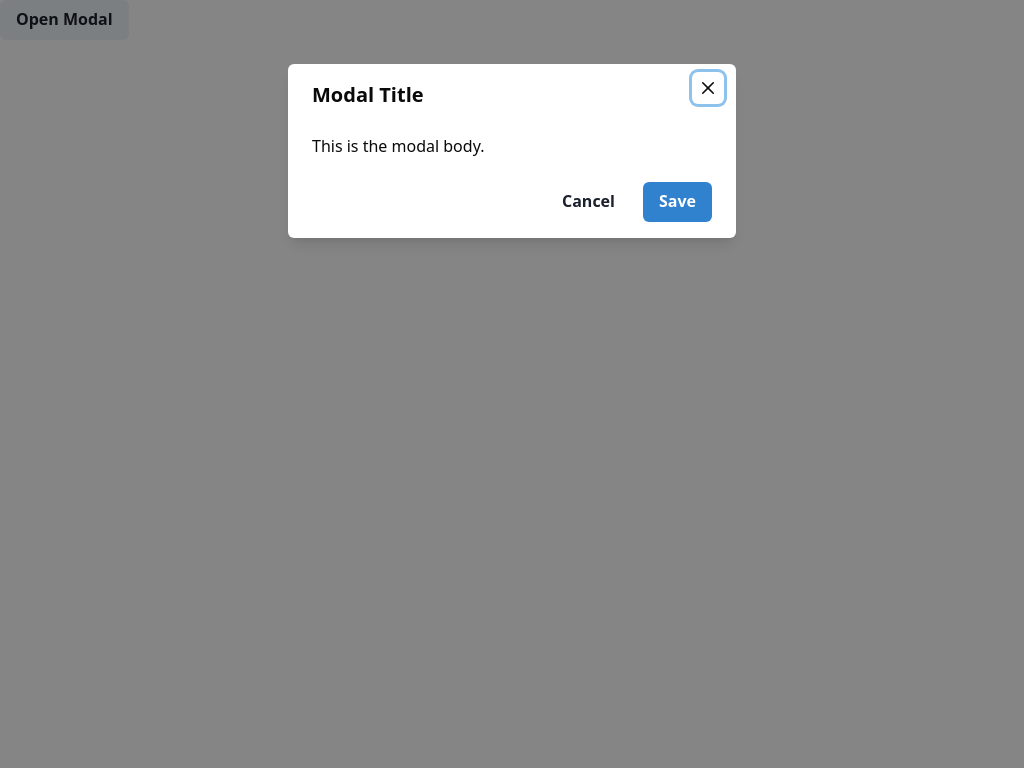
Modal Components › should close when ModalCloseButton is clicked
The width and height of the screenshot is (1024, 768).
Expected: the dialog is shown, [288,64,736,238]
Click the button with test id "modal-close-button" at [708, 88], box [692,72,724,104]
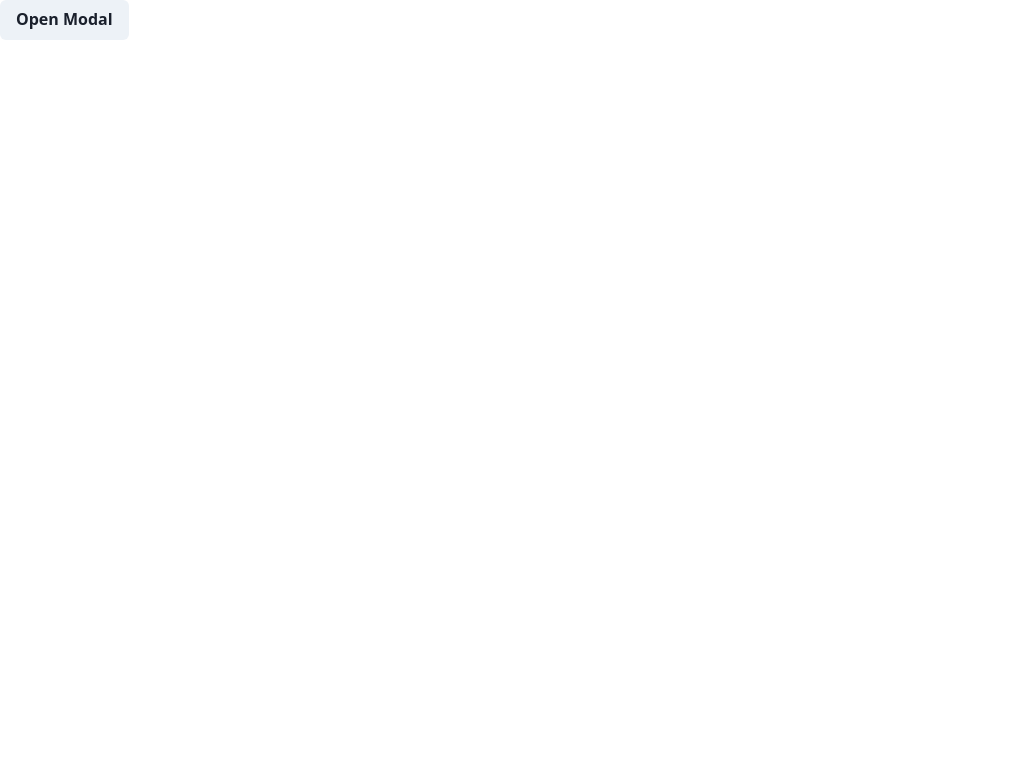
Now the dialog is gone
